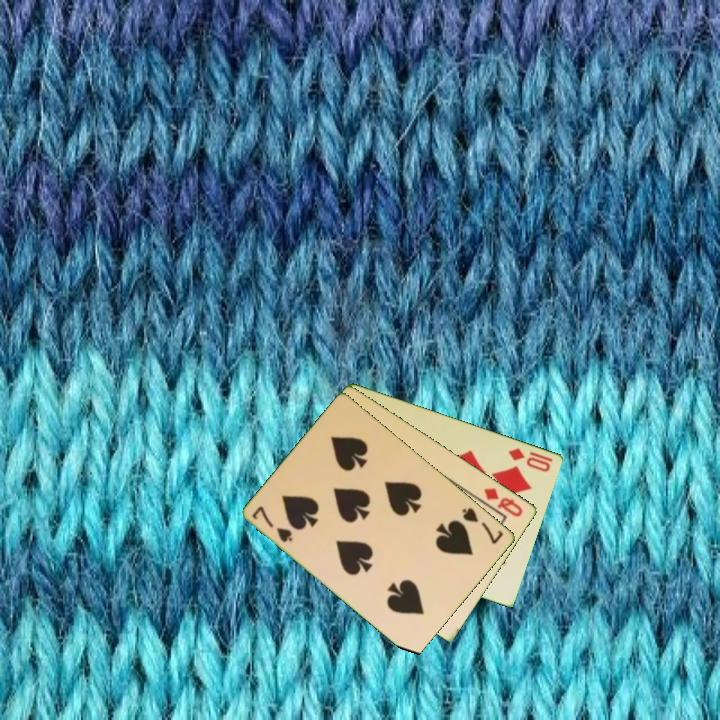10d: (505, 444, 556, 475)
7s: (459, 504, 506, 547), (249, 502, 296, 545)
Qd: (480, 484, 526, 520)
